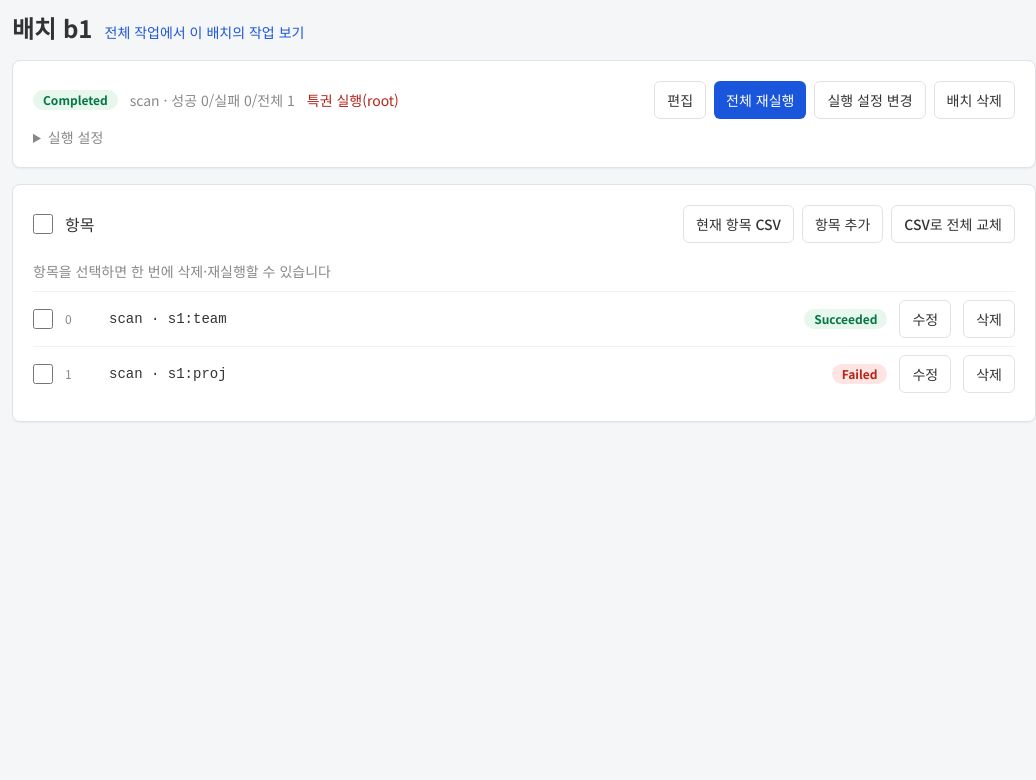
Test: 실패 항목 펼침: 사유는 reasonText 한글 문구, 파일 수 null 은 — (null≠0)
This screenshot has width=1036, height=780.
What coordinates should you click on to do the following:
click the button with aria-label "항목 1 상세"
I would click on:
 (168, 374)
Its box is left=65, top=364, right=888, bottom=384.
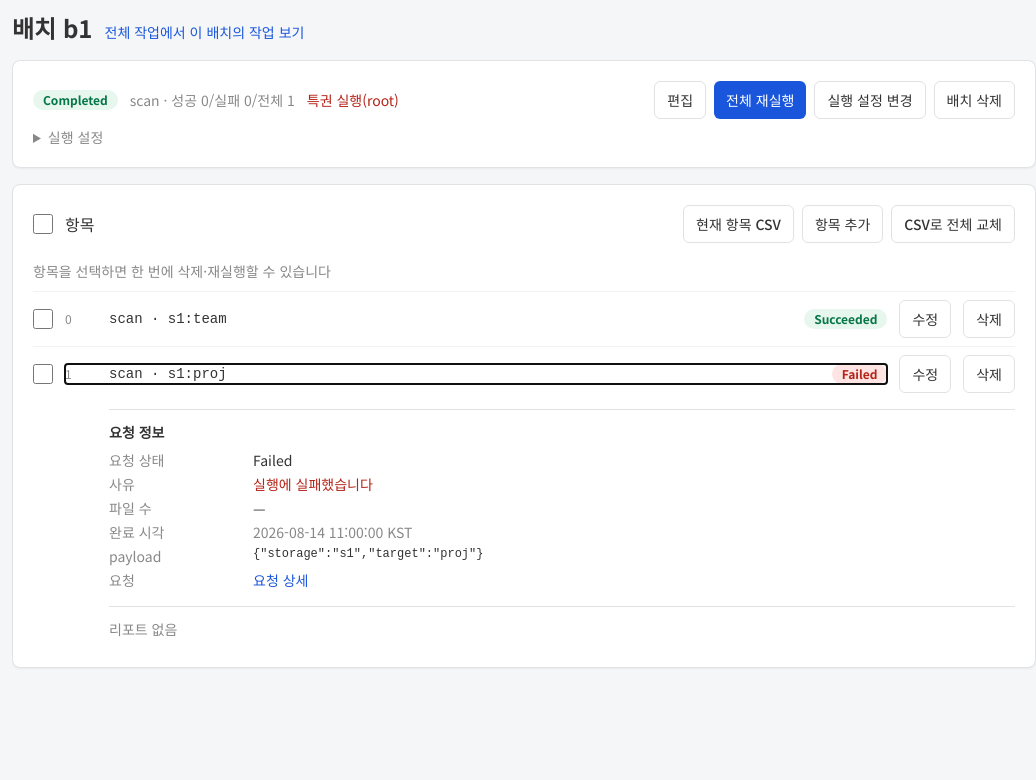
Check: the text "실행에 실패했습니다" is shown, box left=253, top=474, right=373, bottom=494
Check: the text "파일 수" is shown, box left=109, top=498, right=152, bottom=518
Check: the text "—" is shown, box left=253, top=498, right=266, bottom=518
